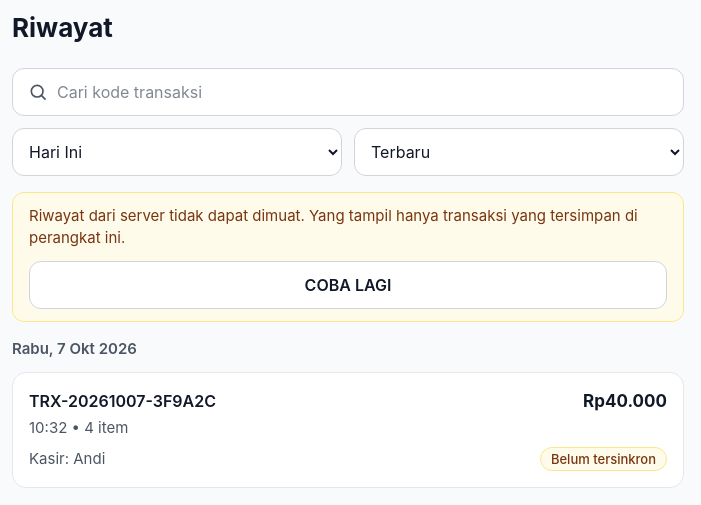
Test: HistoryList — merging this device’s sales › still shows this device’s sales when the server cannot be reached, with a retry
Expected: the link "3F9A2C" is shown, 12,372 -> 684,488
Expected: the text "Riwayat dari server tidak dapat dimuat" is shown, 29,206 -> 638,247
Click the button "COBA LAGI": (348, 285) 29,261 -> 667,309
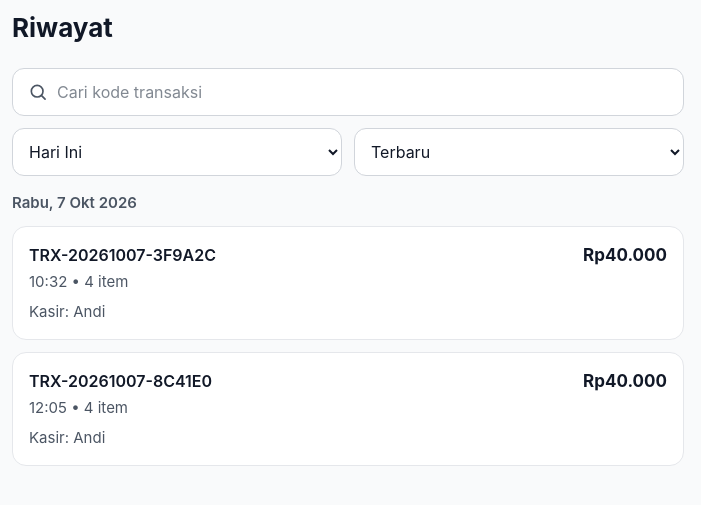
Expected: the text "Riwayat dari server tidak dapat dimuat" is gone
